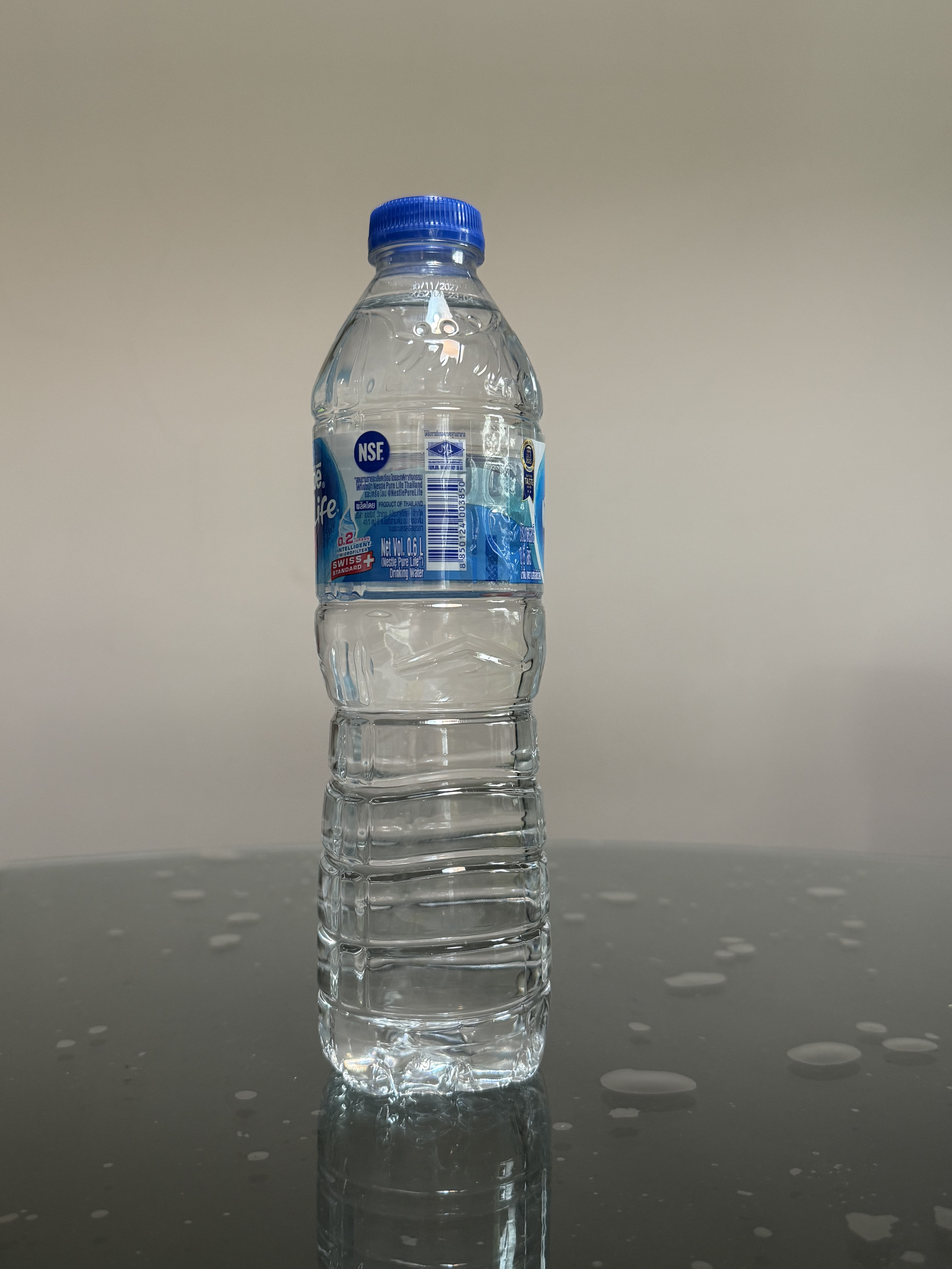closed_cap: (365, 191, 486, 266)
